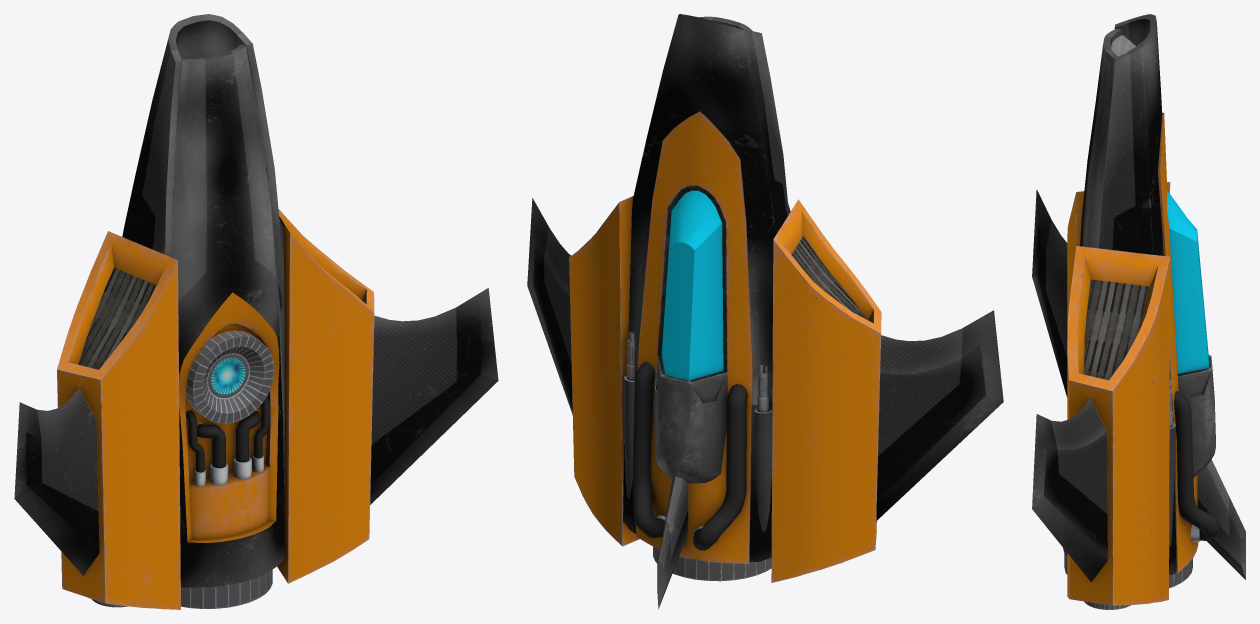
The model's file is nave.obj.
3 renders of one model, left to right at view 1: azimuth 30°, elevation 25°; view 2: azimuth 150°, elevation 25°; view 3: azimuth 270°, elevation 25°, orthographic.
Parts seen in each view (by area): view 1: Nave1_High; view 2: Nave1_High; view 3: Nave1_High.
Boxes of the visible parts, x1=… form: Nave1_High: x1=14, y1=14, x2=498, y2=609; Nave1_High: x1=527, y1=14, x2=1003, y2=609; Nave1_High: x1=1032, y1=14, x2=1245, y2=609.
Size of the model in its own units: 25.83 by 28.96 by 10.05.
3 materials, 3 textured.
